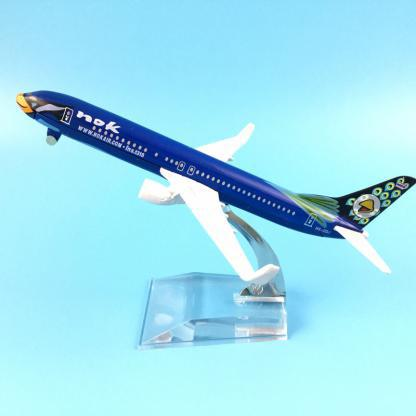CIV_Plane: (10, 83, 415, 294)
